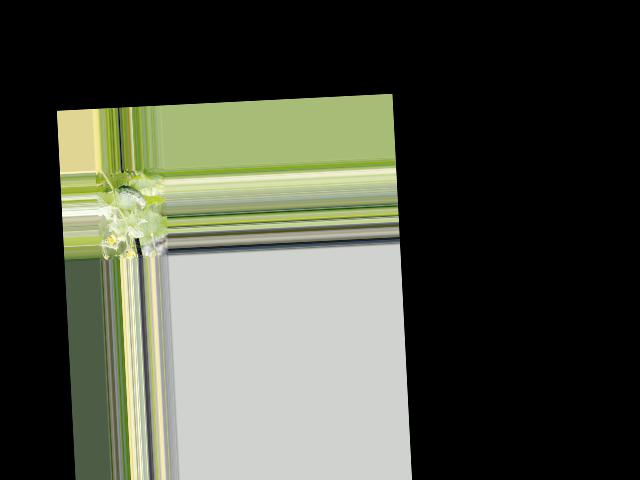cucumber: (116, 184, 146, 210)
